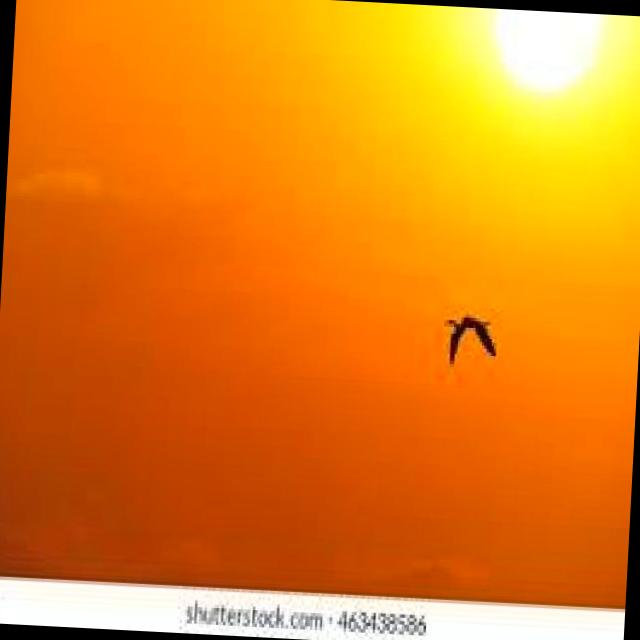bird: (441, 302, 502, 376)
